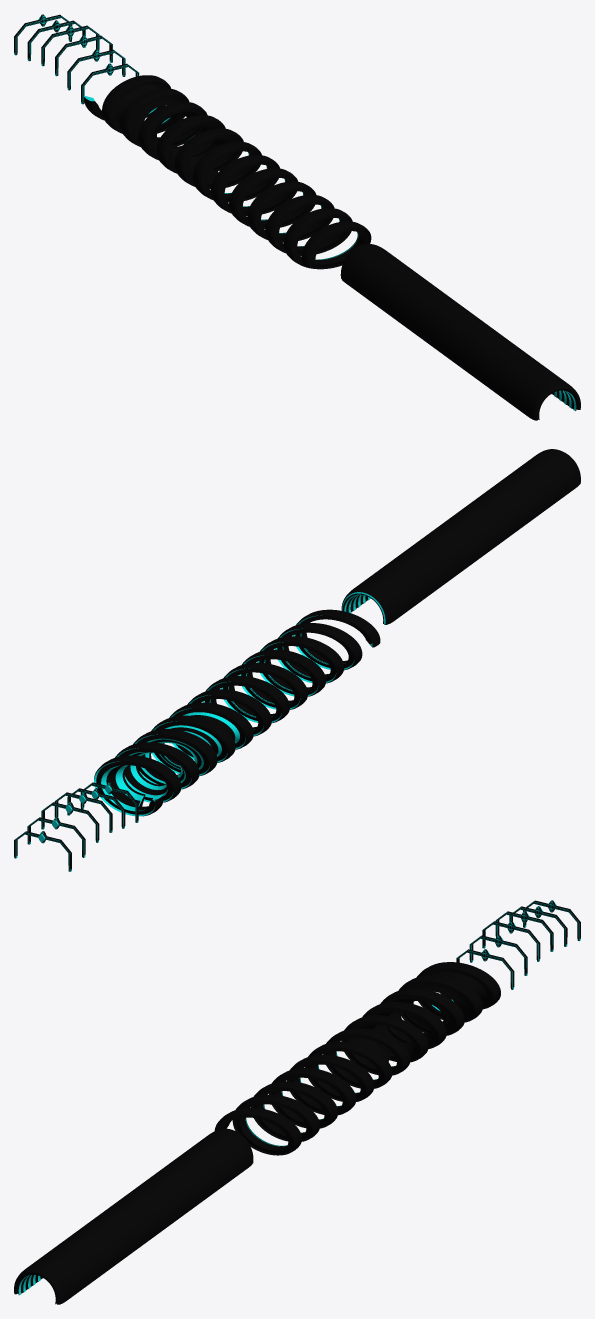
File: Prop_PistaX.fbx
3 renders of one model, top to bottom at view 1: azimuth 30°, elevation 25°; view 2: azimuth 150°, elevation 25°; view 3: azimuth 330°, elevation 25°, orthographic.
Visible parts, largest first — view 1: pHelix1, pPipe1; view 2: pHelix1, pPipe1; view 3: pHelix1, pPipe1.
Boxes of the visible parts, x1,y1,x2,y2 form: pHelix1: (84,75,371,269); pPipe1: (340,244,580,420); pHelix1: (94,609,380,816); pPipe1: (341,449,580,624); pHelix1: (214,962,500,1155); pPipe1: (14,1128,253,1304).
Size of the model in its own units: 443 by 297 by 5378.
